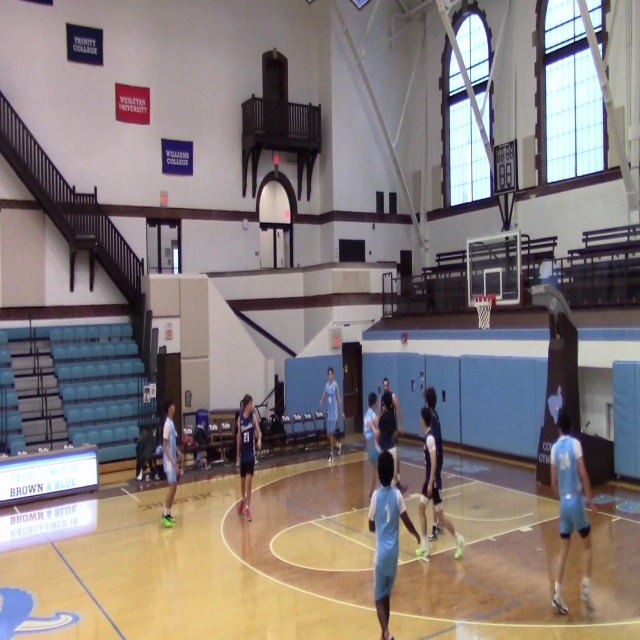Basketball: (237, 499, 244, 514)
